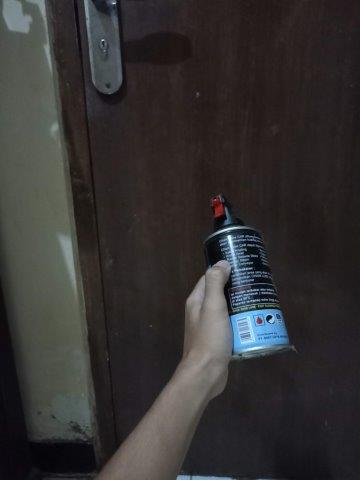kaleng: (203, 226, 291, 359)
